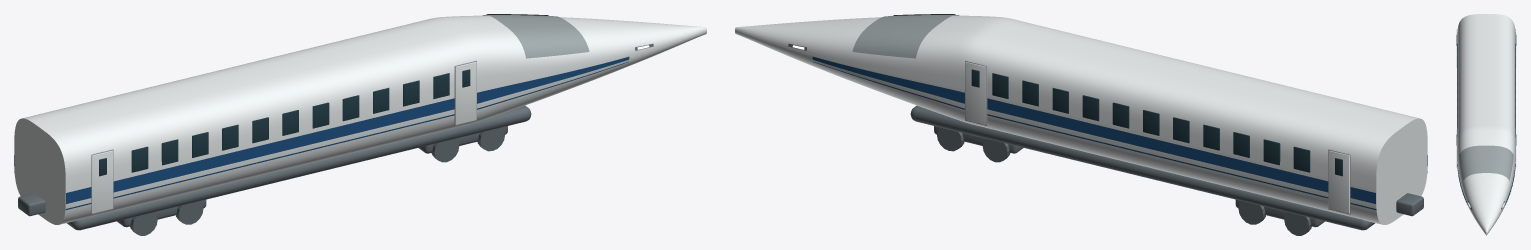
The model's file is lead.glb.
The picture shows the model from 3 angles, left to right: view 1: azimuth 30°, elevation 25°; view 2: azimuth 150°, elevation 25°; view 3: azimuth 270°, elevation 25°; orthographic projection. The views are drawn at different scales.
Visible parts, largest first — view 1: Porcelain white enamel, Undercarriage, Tokaido cobalt, Smoked blue glass, Panel joints; view 2: Porcelain white enamel, Undercarriage, Tokaido cobalt, Smoked blue glass, Panel joints; view 3: Porcelain white enamel, Panel joints, Smoked blue glass, Tokaido cobalt.
Boxes of the visible parts, x1=… form: Porcelain white enamel: x1=14, y1=15, x2=706, y2=224; Undercarriage: x1=18, y1=43, x2=653, y2=235; Tokaido cobalt: x1=14, y1=56, x2=629, y2=209; Smoked blue glass: x1=99, y1=14, x2=548, y2=176; Panel joints: x1=91, y1=15, x2=589, y2=214; Porcelain white enamel: x1=735, y1=15, x2=1427, y2=224; Undercarriage: x1=788, y1=43, x2=1423, y2=235; Tokaido cobalt: x1=812, y1=56, x2=1427, y2=209; Smoked blue glass: x1=893, y1=14, x2=1342, y2=176; Panel joints: x1=852, y1=15, x2=1350, y2=214; Porcelain white enamel: x1=1456, y1=14, x2=1516, y2=235; Panel joints: x1=1457, y1=29, x2=1515, y2=180; Smoked blue glass: x1=1456, y1=35, x2=1516, y2=145; Tokaido cobalt: x1=1457, y1=164, x2=1515, y2=203.
Bounding box in the file's own units: 25.38 × 4.08 × 3.45.
